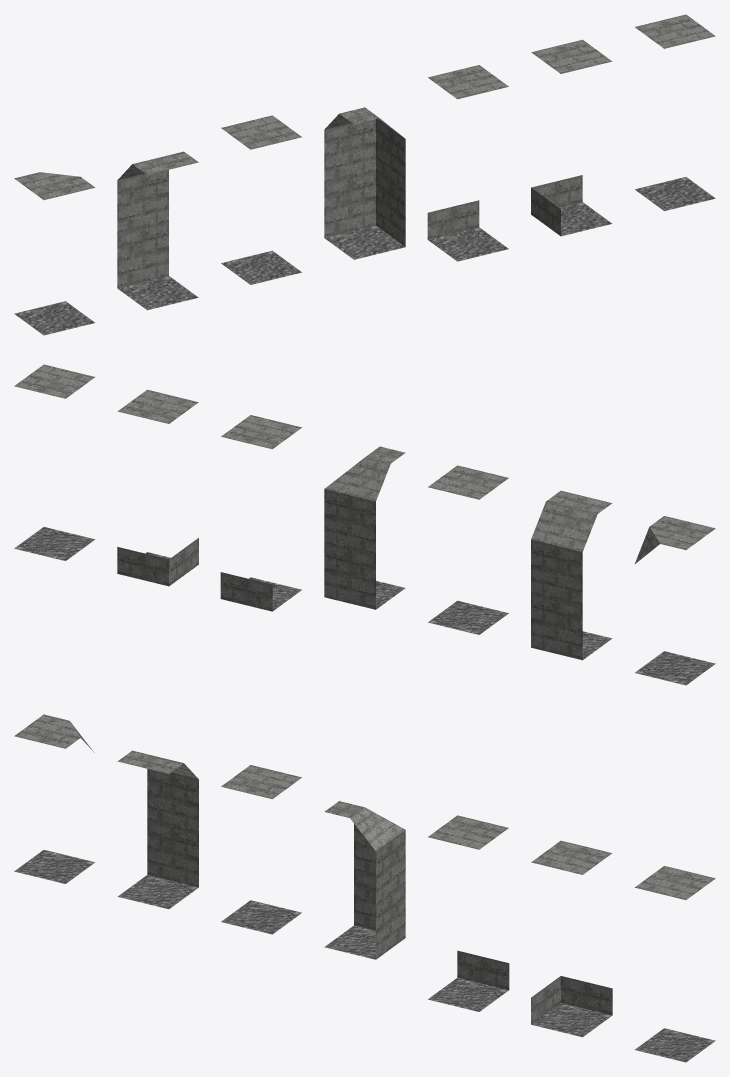
Rendered from tilesets.glb.
3 renders of one model, top to bottom at view 1: azimuth 30°, elevation 25°; view 2: azimuth 150°, elevation 25°; view 3: azimuth 330°, elevation 25°, orthographic.
Parts seen in each view (by area): view 1: corner-in-col, wall-col, pool-wall-col, pool-wall-cornet-col, pool-floor-col, floor-col, corner-out-col; view 2: wall-col, corner-in-col, pool-wall-cornet-col, pool-wall-col, corner-out-col, pool-floor-col, floor-col; view 3: wall-col, corner-in-col, pool-wall-cornet-col, pool-wall-col, pool-floor-col, floor-col, corner-out-col.
Boxes of the visible parts, x1=… form: corner-in-col: x1=324, y1=107, x2=405, y2=259; wall-col: x1=117, y1=151, x2=198, y2=310; pool-wall-col: x1=427, y1=65, x2=508, y2=261; pool-wall-cornet-col: x1=531, y1=39, x2=612, y2=236; pool-floor-col: x1=635, y1=14, x2=715, y2=210; floor-col: x1=221, y1=115, x2=301, y2=284; corner-out-col: x1=14, y1=172, x2=94, y2=335; wall-col: x1=531, y1=490, x2=612, y2=660; corner-in-col: x1=324, y1=446, x2=405, y2=609; pool-wall-cornet-col: x1=117, y1=389, x2=198, y2=586; pool-wall-col: x1=220, y1=415, x2=301, y2=611; corner-out-col: x1=635, y1=516, x2=715, y2=685; pool-floor-col: x1=14, y1=364, x2=94, y2=560; floor-col: x1=428, y1=465, x2=508, y2=634; wall-col: x1=117, y1=750, x2=198, y2=909; corner-in-col: x1=324, y1=801, x2=405, y2=959; pool-wall-cornet-col: x1=531, y1=840, x2=612, y2=1037; pool-wall-col: x1=428, y1=815, x2=509, y2=1011; pool-floor-col: x1=635, y1=866, x2=715, y2=1062; floor-col: x1=221, y1=765, x2=301, y2=934; corner-out-col: x1=14, y1=714, x2=94, y2=883.
Size of the model in its own units: 13 by 3 by 1.
Materials: 1 (1 with a texture image).
